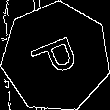P_E: (26, 30, 86, 84)
